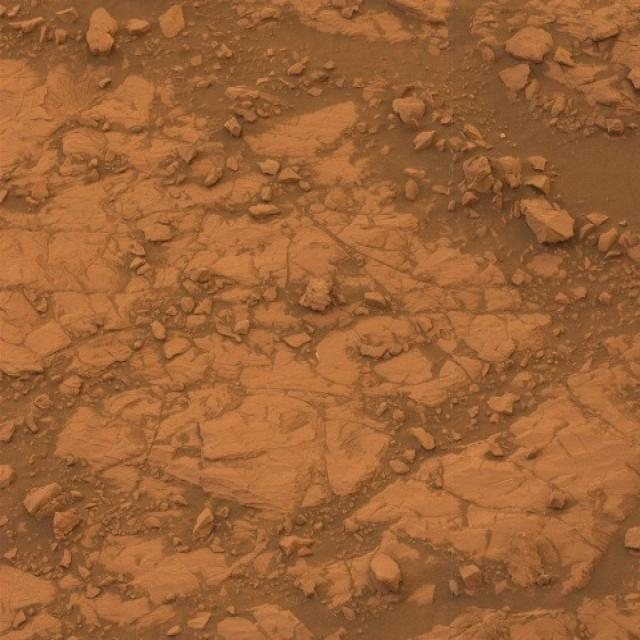mars-rocks: (522, 198, 576, 243), (506, 26, 555, 62), (370, 553, 402, 593), (393, 96, 427, 128), (158, 4, 185, 38), (88, 7, 118, 34), (86, 29, 114, 55)
